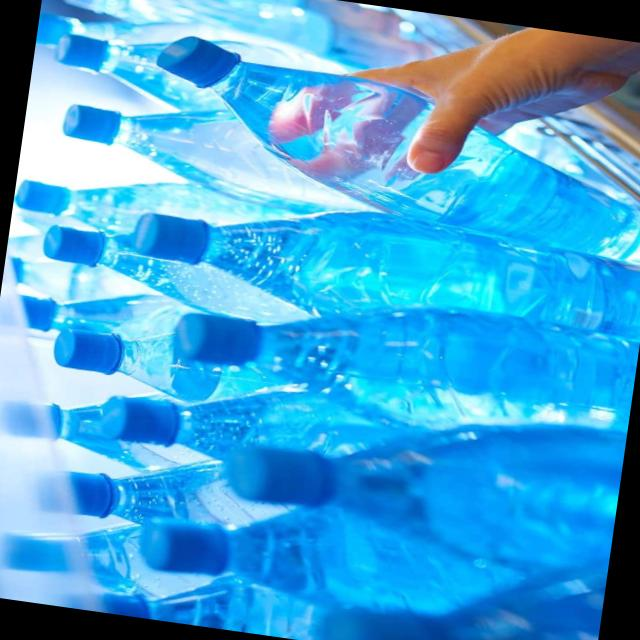plastic_bottle: (129, 17, 640, 265), (218, 411, 627, 582), (171, 293, 640, 439)
